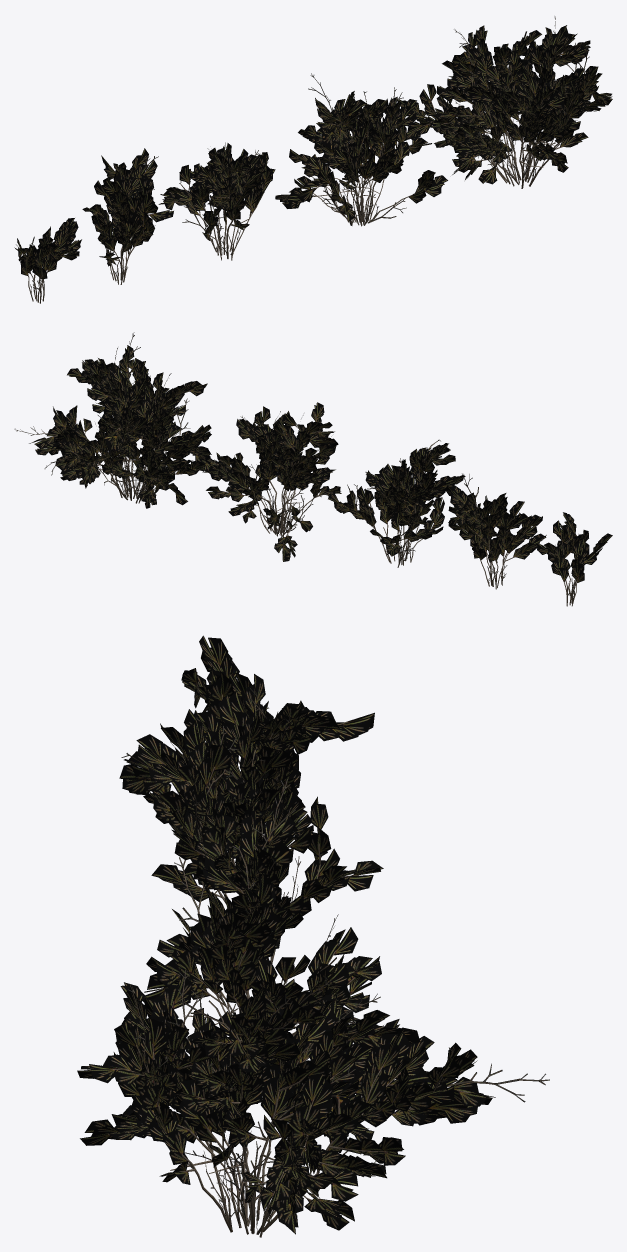
Rendered from wild_rooibos_bush.glb.
3 renders of one model, top to bottom at view 1: azimuth 30°, elevation 25°; view 2: azimuth 150°, elevation 25°; view 3: azimuth 270°, elevation 25°, orthographic. The views are drawn at different scales.
Visible parts, largest first — view 1: wild_rooibos_bush_a; view 2: wild_rooibos_bush_a; view 3: wild_rooibos_bush_a.
Boxes of the visible parts, x1,y1,x2,y2 form: wild_rooibos_bush_a: [14, 16, 612, 303]; wild_rooibos_bush_a: [14, 332, 612, 606]; wild_rooibos_bush_a: [77, 635, 549, 1237].
Size of the model in its own units: 2.28 by 0.5413 by 0.8434.
2 materials, 2 textured.
